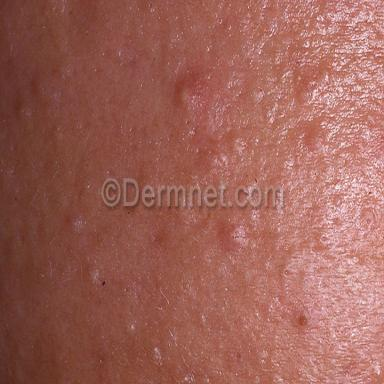acne: (295, 63, 329, 104), (219, 225, 249, 250), (174, 77, 196, 109), (303, 119, 322, 151), (66, 210, 85, 233), (82, 261, 99, 283), (18, 93, 32, 119), (40, 77, 52, 106), (154, 346, 162, 364), (127, 323, 135, 332), (200, 315, 205, 325)
